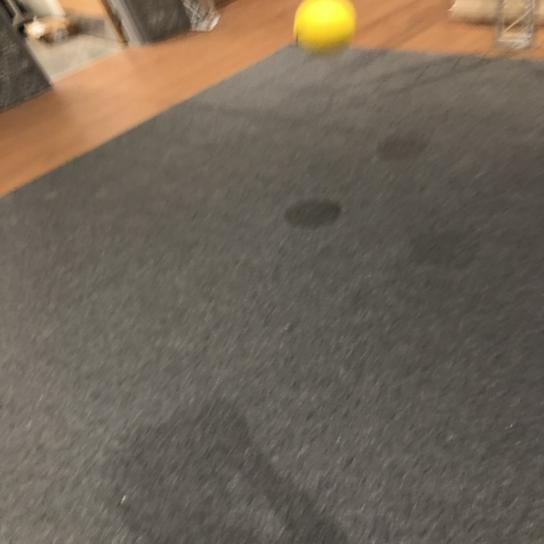ball: (288, 1, 359, 57)
